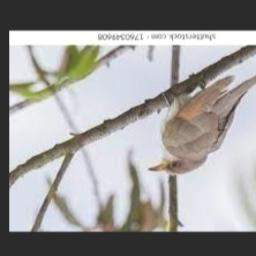Cuckoo: (148, 62, 256, 175)
